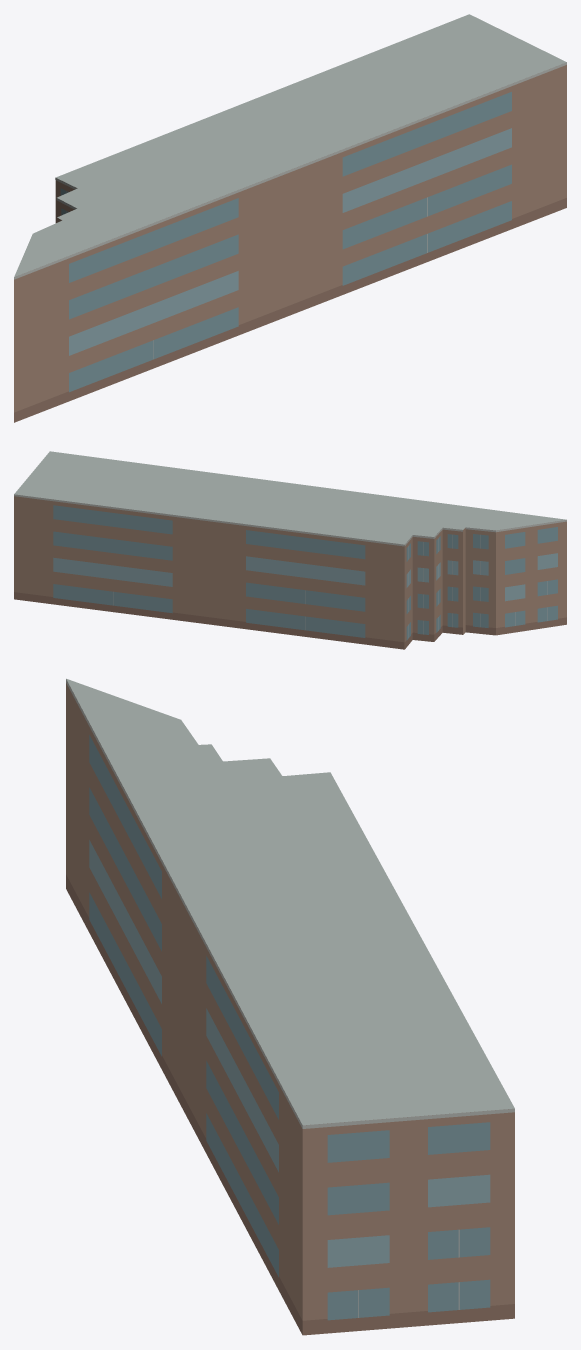
Rendered from survey-upis-32503198.glb.
The picture shows the model from 3 angles, top to bottom: view 1: azimuth 30°, elevation 25°; view 2: azimuth 150°, elevation 25°; view 3: azimuth 270°, elevation 25°; orthographic projection. The views are drawn at different scales.
Visible parts, largest first — view 1: survey-upis-32503198.tmp; view 2: survey-upis-32503198.tmp; view 3: survey-upis-32503198.tmp.
Part boxes in pixels (bbox=[...]): survey-upis-32503198.tmp: bbox=[14, 14, 566, 422]; survey-upis-32503198.tmp: bbox=[14, 451, 566, 649]; survey-upis-32503198.tmp: bbox=[66, 678, 514, 1335].
Size of the model in its own units: 63.44 by 13.9 by 26.95.
